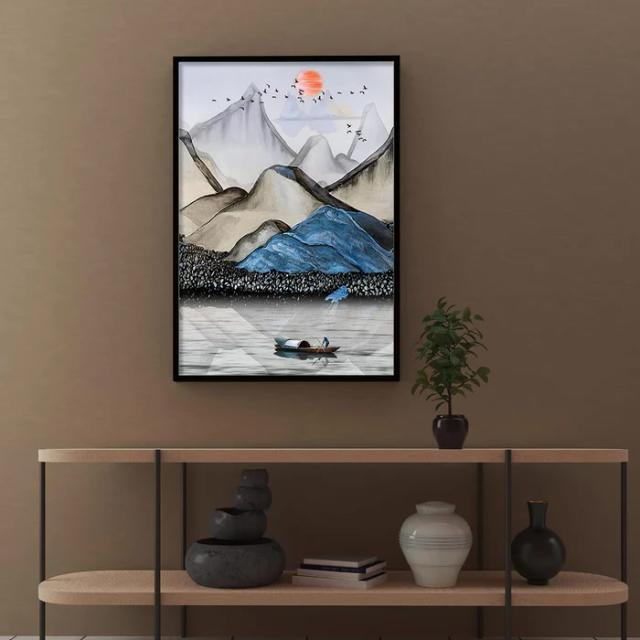painting: (173, 51, 401, 381)
